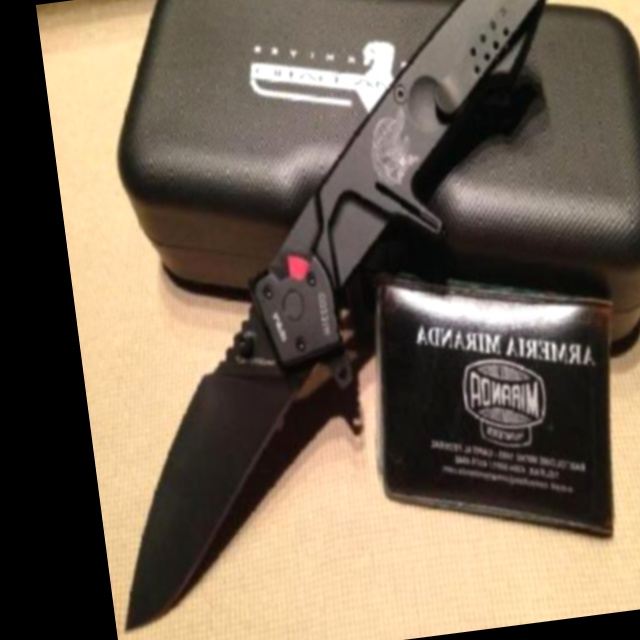Sharp-Object: (46, 0, 624, 634)
